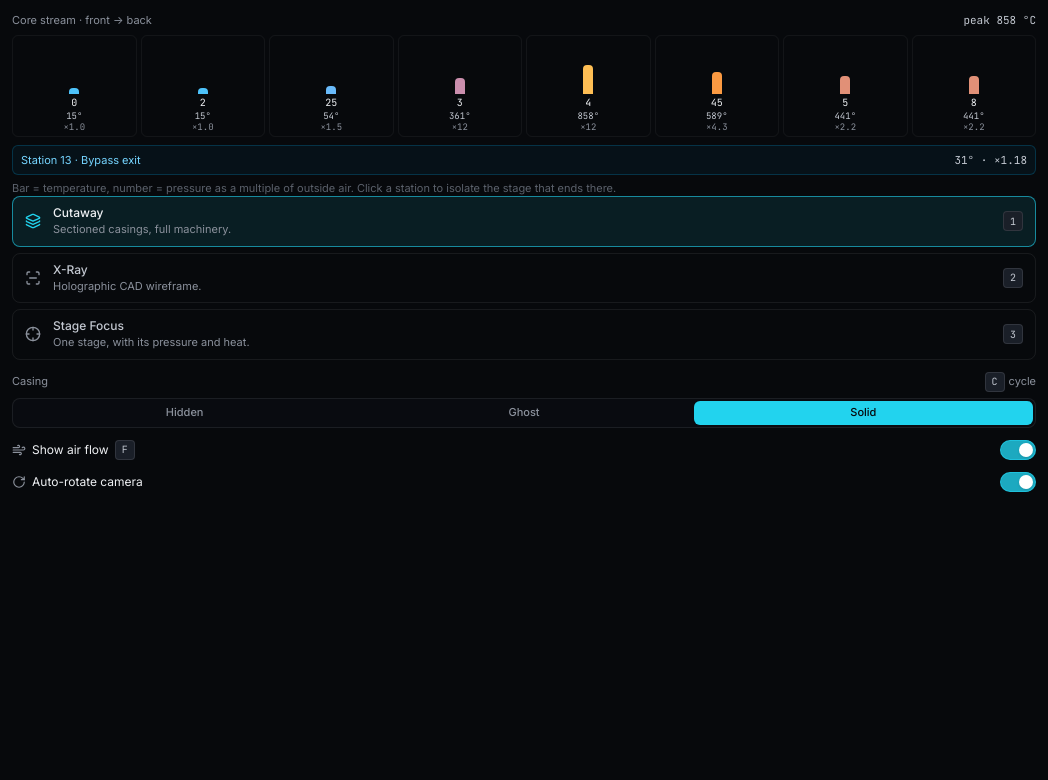
Test case: StationStrip › lists every core station in the strip and focuses a stage on click
Expected: the text "0" is shown, [71,98,77,108]
Expected: the text "2" below "Core stream · front → back" is shown, [200,96,206,108]
What coordinates should you click on to do the following:
click the button titled "focus the HP compressor"
I would click on:
 (460, 86)
Its box is [398,34,522,136].
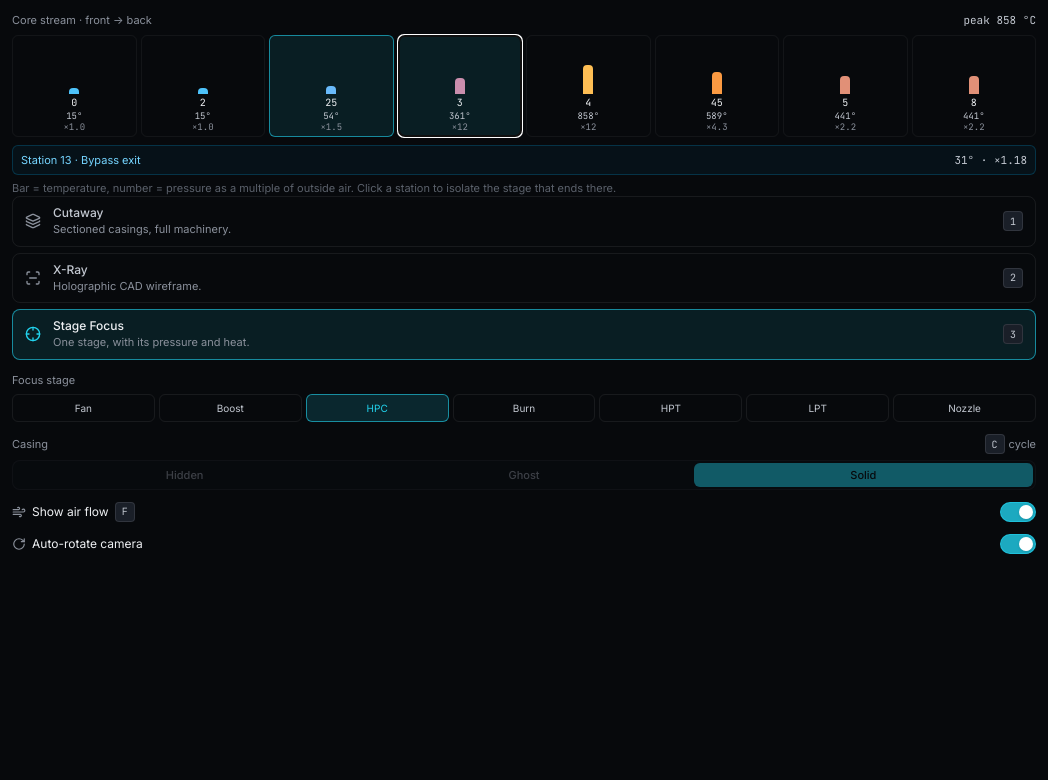
Now the text "Focus stage" is shown, box [12,373,75,387]
